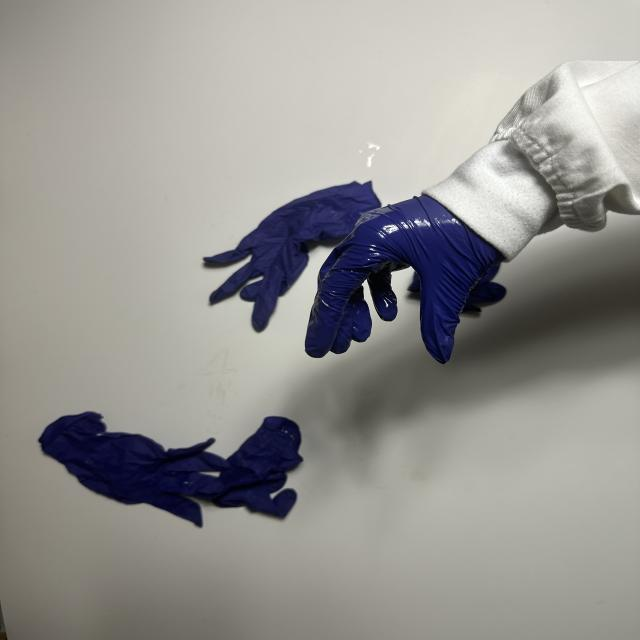gloves_contaminated: (305, 195, 505, 364)
